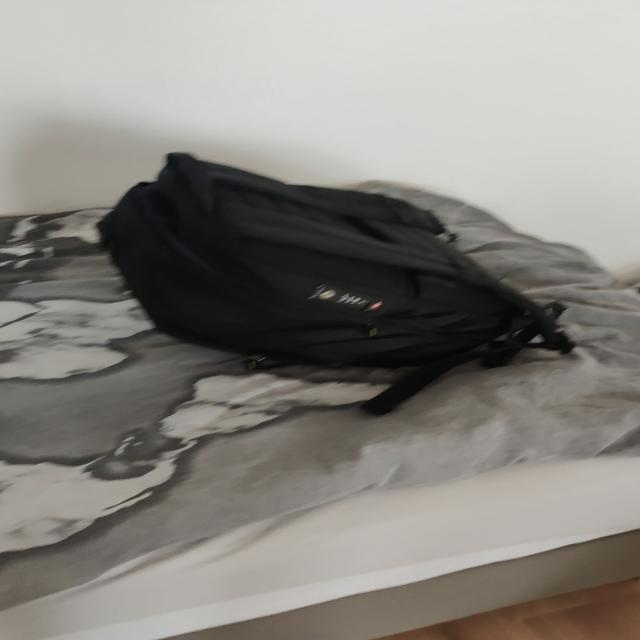backpack: (83, 146, 564, 384)
